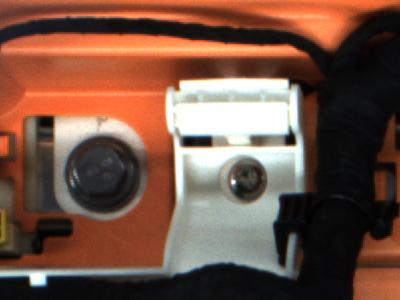nut_b: (62, 135, 142, 217)
